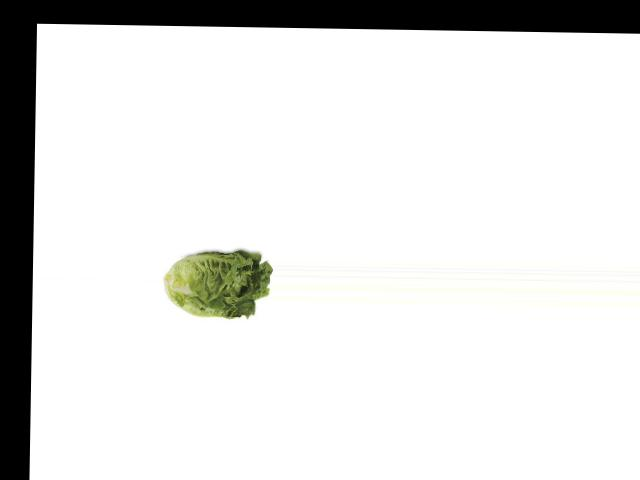lettuce: (162, 244, 270, 325)
